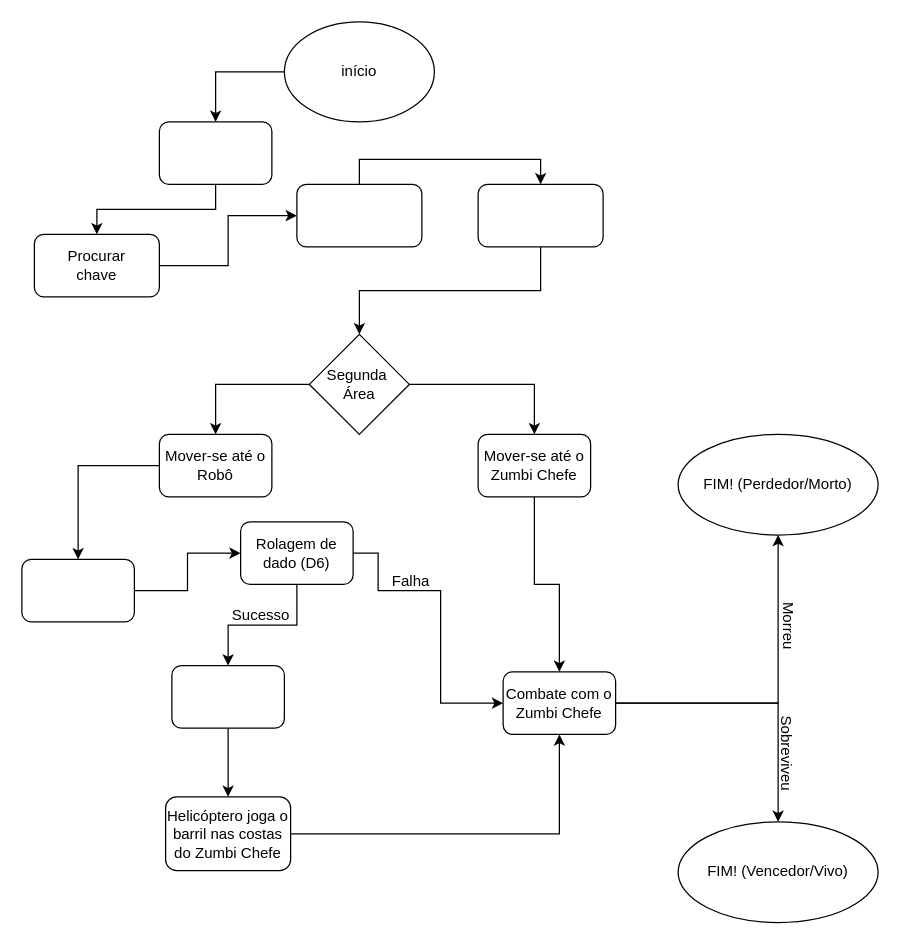
Some shapes in this 900 by 945 pixel diagram are drawn without their labels. The centre of each missing label's shape, as x and y in pixels:
"Abrir Porta" belongs at (x=359, y=215).
"Combater o primeiro Zumbi" belongs at (x=540, y=215).
"Movimentar-se" belongs at (x=215, y=152).
"Robô aciona o Helicóptero" belongs at (x=227, y=696).
"Tentar acionar o suporte" belongs at (x=77, y=590).
